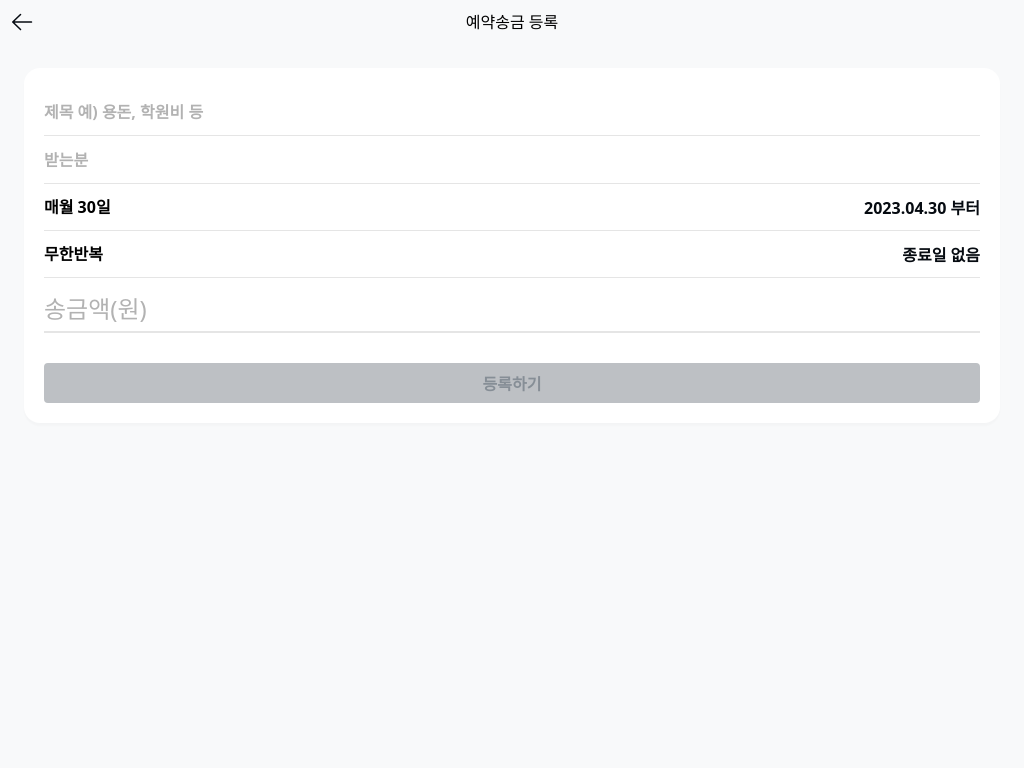
Test: 송금등록화면 반복일 선택
Check: the navigation bar is shown, box top-left (0, 0), bottom-right (1023, 44)
Click the text "매월 30일": x=77, y=207 top-left (44, 199), bottom-right (111, 215)
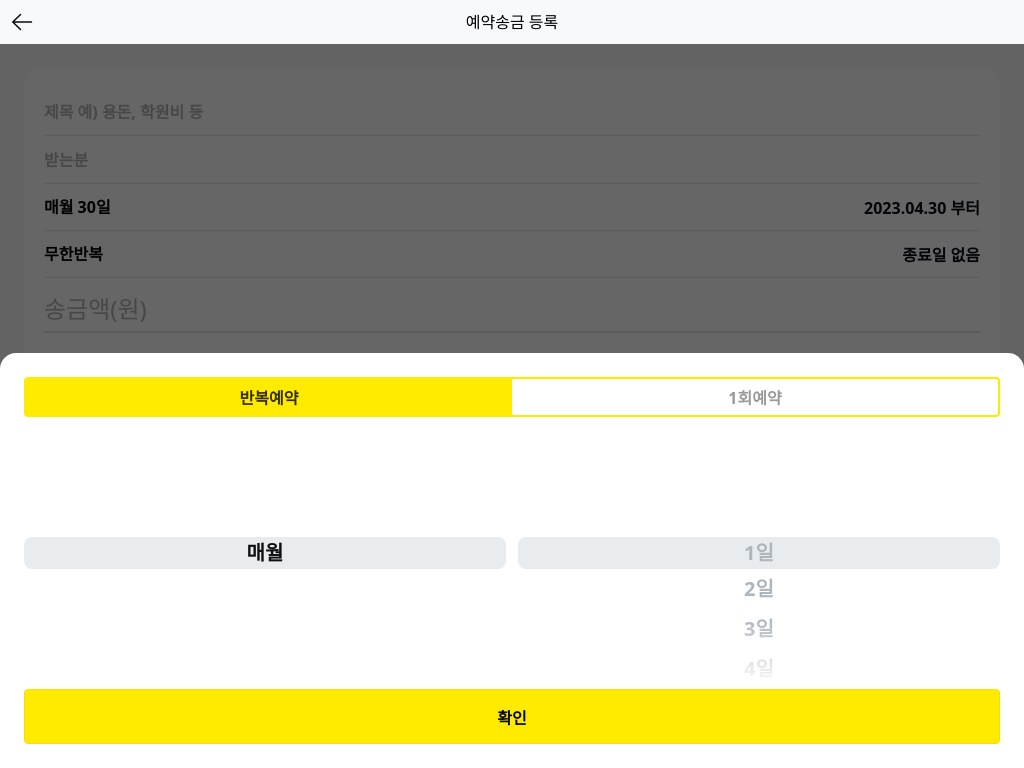
Click the button "확인": x=512, y=716 top-left (24, 689), bottom-right (1000, 744)
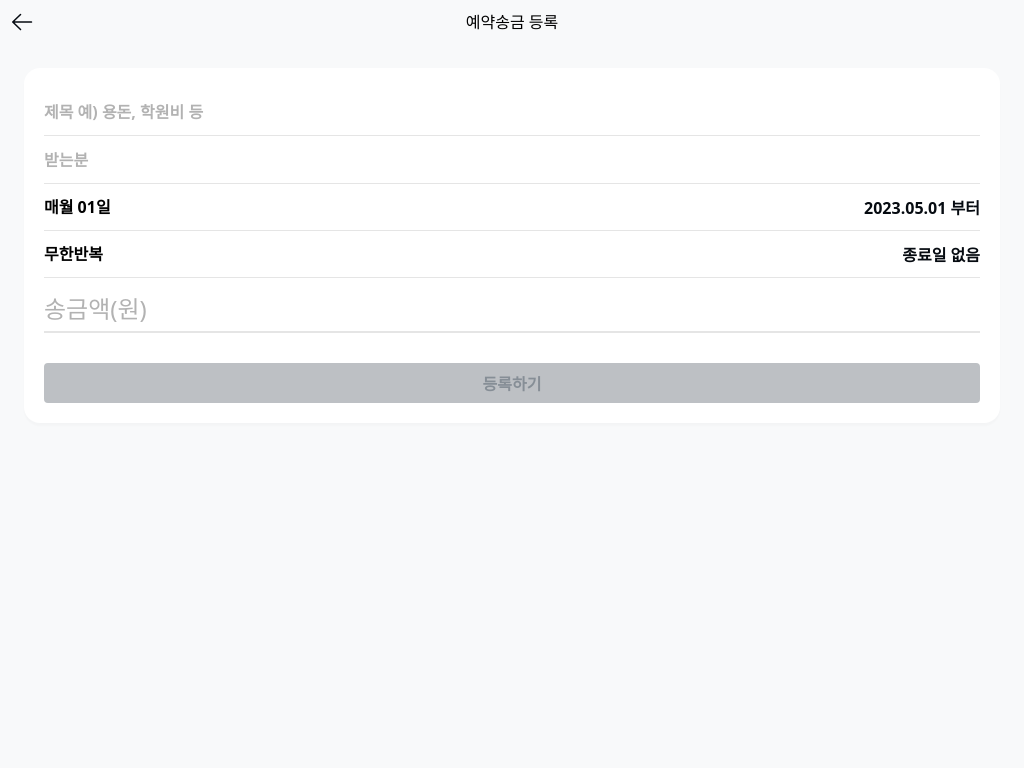
Check: the text "매월 01일" is shown, box top-left (44, 199), bottom-right (111, 215)
